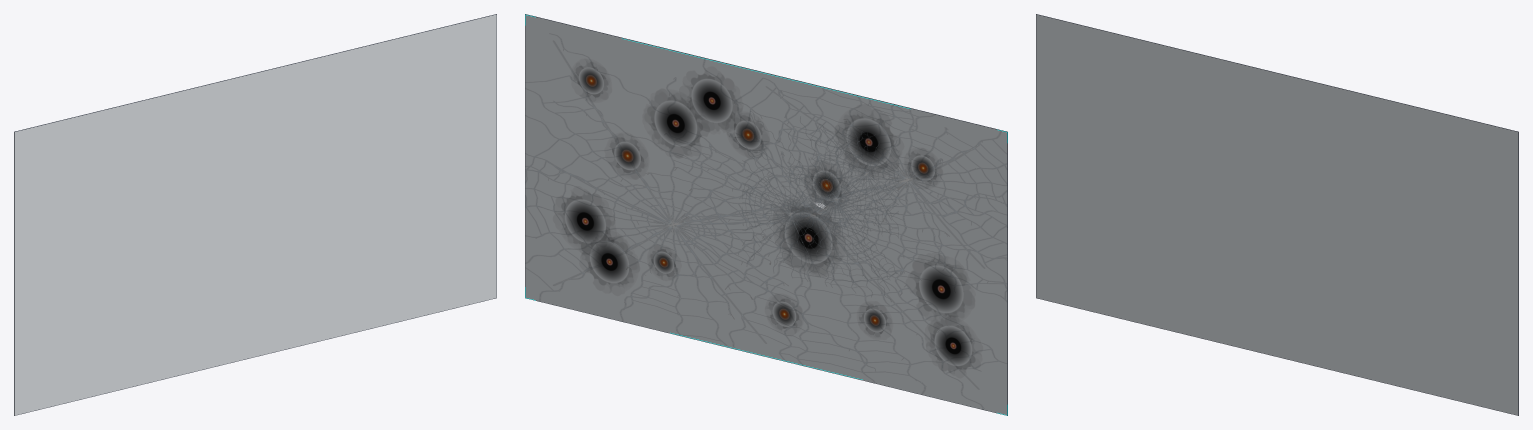
File: screen_decals_spider_web_overlay.glb
3 views of the same model, side by side, from view 1: azimuth 30°, elevation 25°; view 2: azimuth 150°, elevation 25°; view 3: azimuth 330°, elevation 25° (orthographic).
Visible parts, largest first — view 1: Translucent_Clear_Screen, Solid_Back_Panel, Frame_005m_Thick; view 2: Translucent_Clear_Screen, Decal_BrokenSpiderWeb_Screen, Decal_BrokenSpiderWeb_Core, Decal_MissileStrike_01, Decal_MissileStrike_03, Decal_MissileStrike_05, Decal_MissileStrike_02, Decal_MissileStrike_08, Decal_MissileStrike_04, Decal_MissileStrike_06, Solid_Front_Panel, Decal_MissileStrike_07 (+10 smaller); view 3: Translucent_Clear_Screen, Solid_Back_Panel, Frame_005m_Thick.
Boxes of the visible parts, x1,y1,x2,y2 form: Translucent_Clear_Screen: (14,14,496,415); Solid_Back_Panel: (14,14,496,415); Frame_005m_Thick: (14,14,496,415); Translucent_Clear_Screen: (525,15,1007,414); Decal_BrokenSpiderWeb_Screen: (525,33,1007,409); Decal_BrokenSpiderWeb_Core: (742,113,898,301); Decal_MissileStrike_01: (779,206,838,272); Decal_MissileStrike_03: (911,259,971,317); Decal_MissileStrike_05: (838,113,899,172); Decal_MissileStrike_02: (647,92,702,154); Decal_MissileStrike_08: (686,74,738,129); Decal_MissileStrike_04: (560,192,611,251); Decal_MissileStrike_06: (582,235,636,287); Solid_Front_Panel: (525,14,1007,415); Decal_MissileStrike_07: (929,320,977,372); Translucent_Clear_Screen: (1036,14,1518,415); Solid_Back_Panel: (1036,14,1518,415); Frame_005m_Thick: (1036,14,1518,415).
Size of the model in its own units: 1.6 by 0.9371 by 0.00155.
8 materials, 4 textured.
